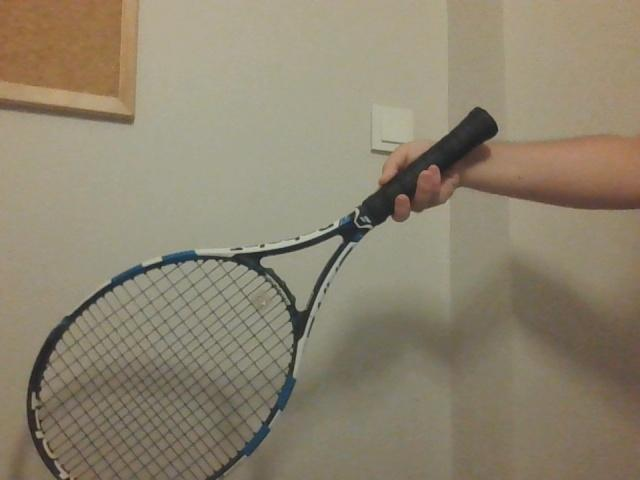Tennis-Racket: (30, 105, 499, 480)
